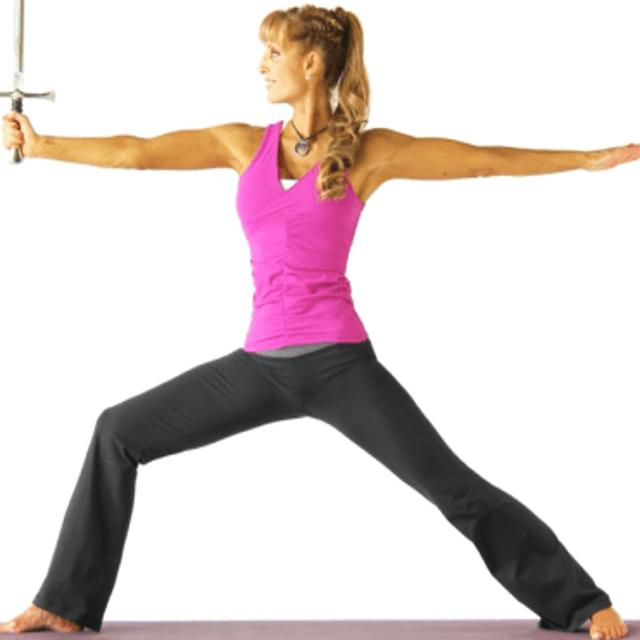Warrior_II: (12, 1, 634, 640)
